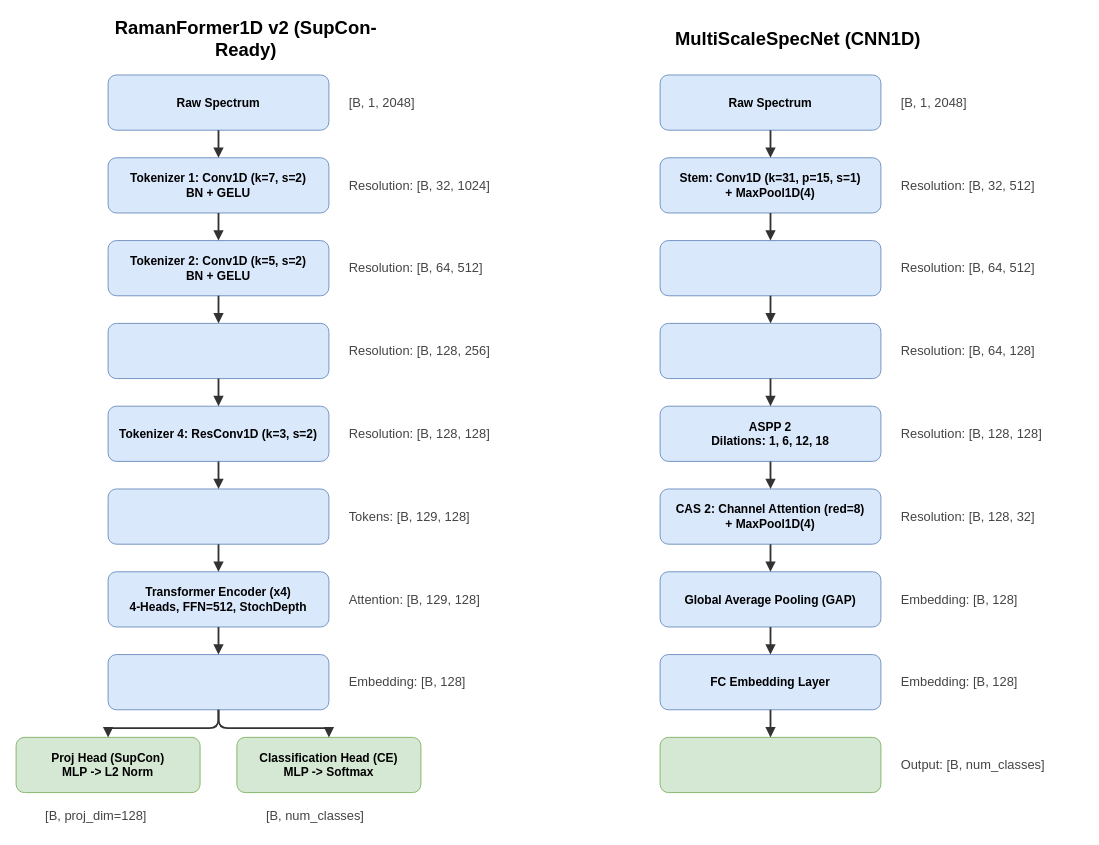
Some shapes in this 1099 by 845 pixel diagram are drawn without their labels. The shapes that lost their labels are listed below. From the top down, each one's centre as x and y in pixels, then its label:
At [770,268]: "ASPP 1 Dilations: 1, 6, 12, 18".
At [218,350]: "Tokenizer 3: ResConv1D (k=3, s=2)".
At [770,350]: "CAS 1: Channel Attention (red=8) + MaxPool1D(4)".
At [218,516]: "Token Prep: Permute & Prepend [CLS] + Learned Positional Emb".
At [218,682]: "Slice [CLS] Token".
At [770,764]: "Classification Head".
